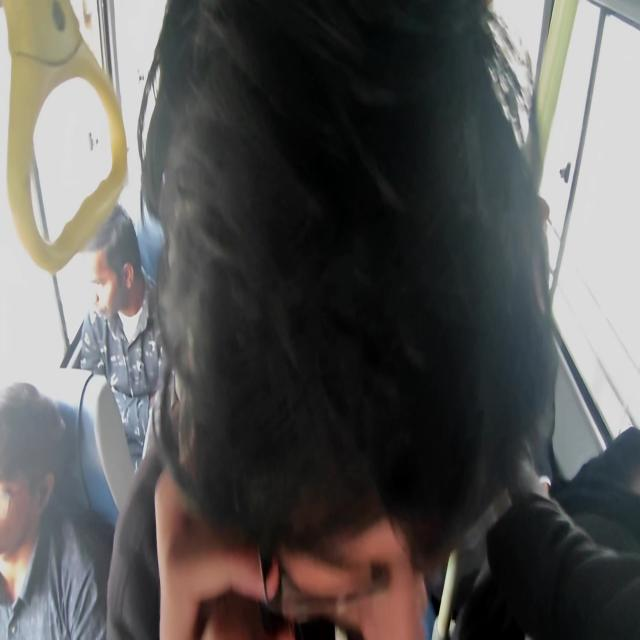person: (186, 70, 519, 640), (0, 418, 53, 547), (85, 228, 142, 332)
